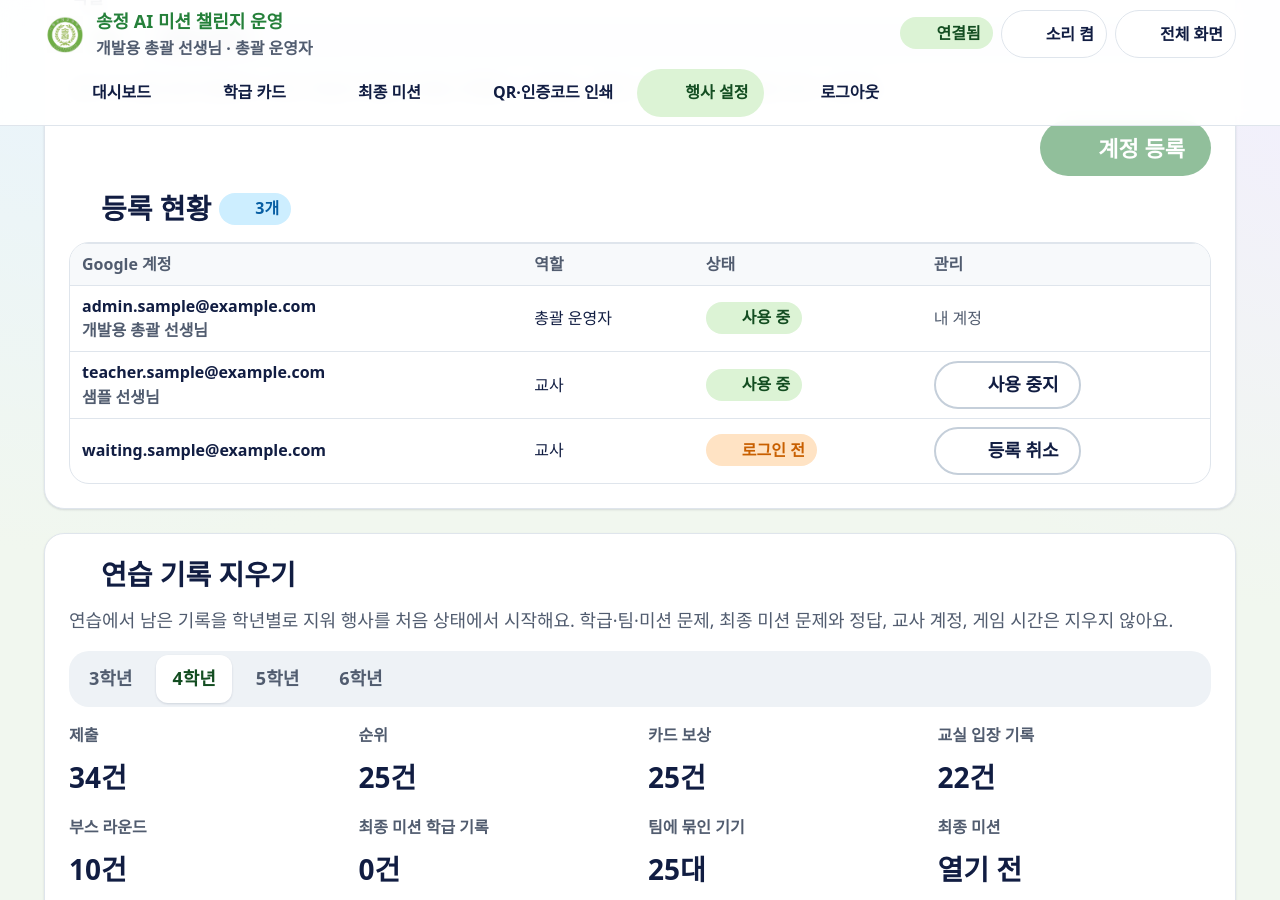
Test case: 교사 계정 등록 › 로그인 전인 등록은 취소할 수 있다
(page scrolled)
Expected: the table is shown, x1=70 y1=243 x2=1210 y2=483
What coordinates should you click on to do the following:
click the button with aria-label "waiting.sample@example.com 등록 취소"
I would click on:
 (1007, 451)
Its box is x1=934 y1=427 x2=1081 y2=475.
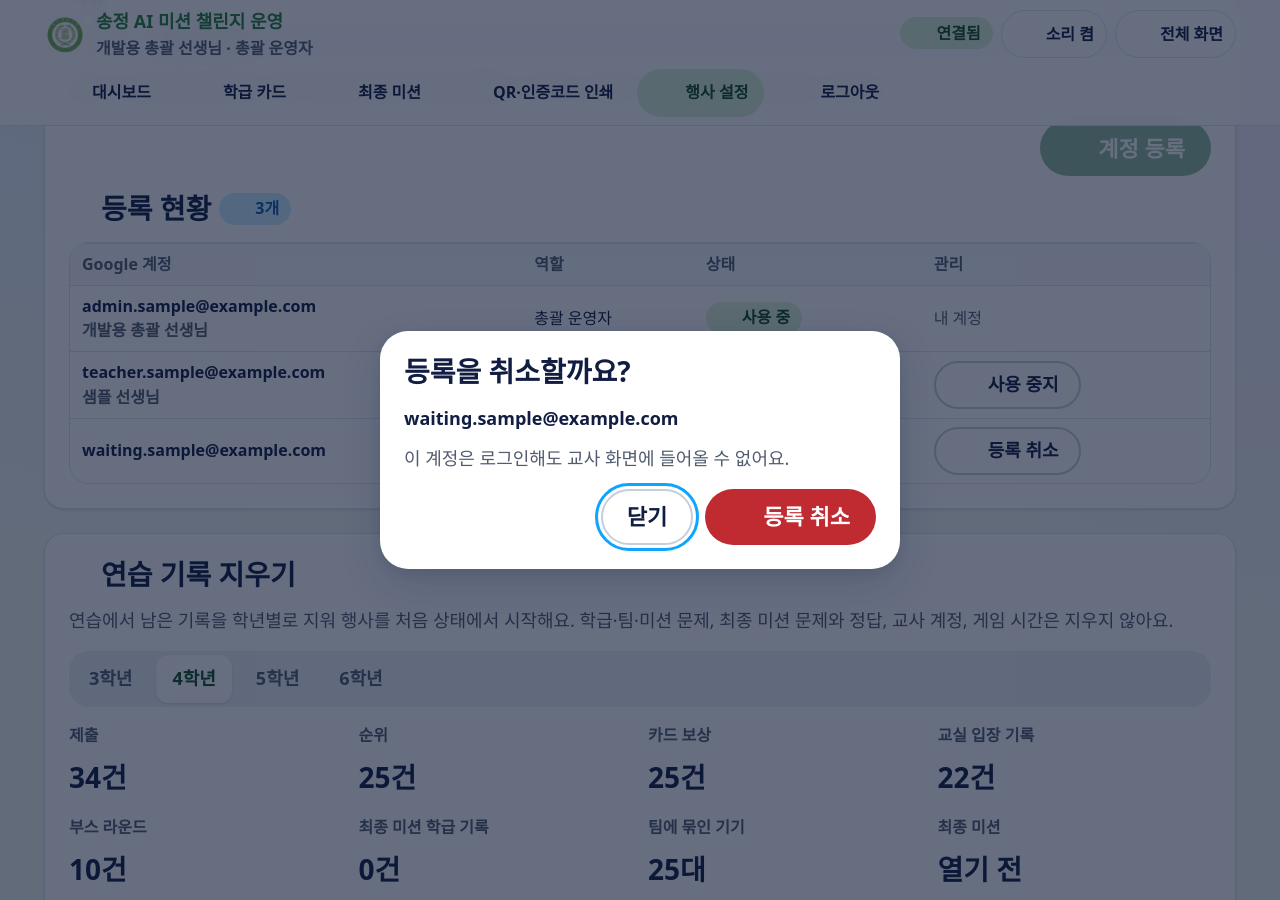
What coordinates should you click on to do the following:
click the button "등록 취소"
I would click on:
 (791, 517)
Its box is x1=705 y1=489 x2=876 y2=545.
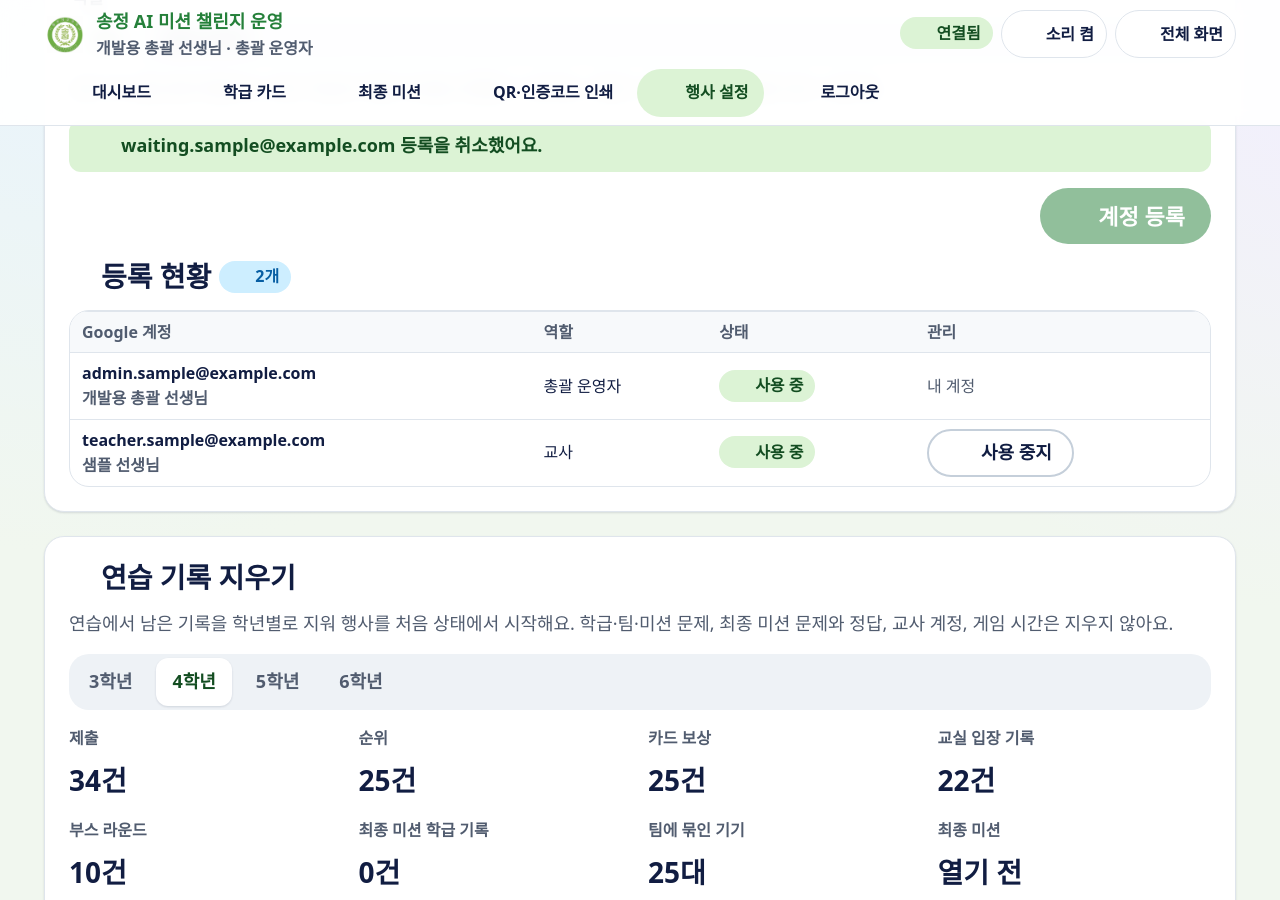
Expected: the text "waiting.sample@example.com 등록을 취소했어요." is shown, x1=121 y1=133 x2=542 y2=157
